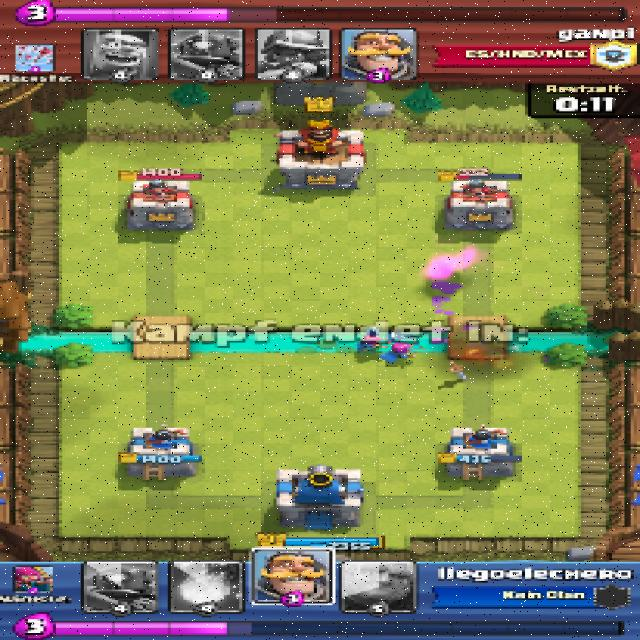Player-Archer: (385, 344, 420, 364), (356, 336, 386, 354)
